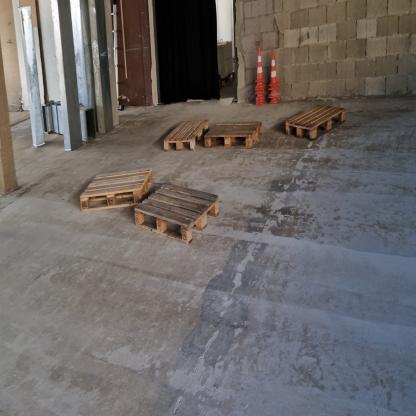BoxFace: (133, 180, 222, 250), (76, 162, 154, 218), (281, 98, 348, 147), (203, 118, 266, 153), (162, 114, 211, 153)
